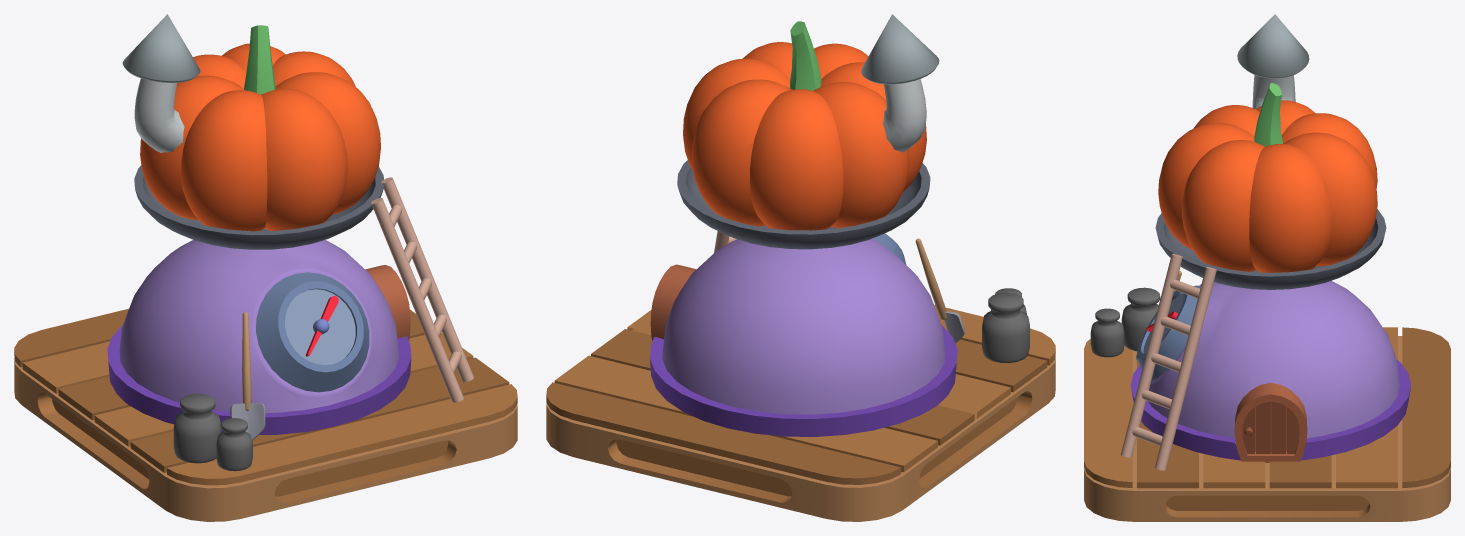
The model's file is Pumpkin House.fbx.
The picture shows the model from 3 angles, left to right: view 1: azimuth 30°, elevation 25°; view 2: azimuth 150°, elevation 25°; view 3: azimuth 270°, elevation 25°; orthographic projection. The views are drawn at different scales.
Visible parts, largest first — view 1: Pumpkin House.004, Pumpkin House, Pumpkin House.009, Pumpkin House.007, Pumpkin House.006, Pumpkin House.002, Pumpkin House.003, Pumpkin House.008, Pumpkin House.001; view 2: Pumpkin House.004, Pumpkin House, Pumpkin House.009, Pumpkin House.006, Pumpkin House.002, Pumpkin House.003, Pumpkin House.008; view 3: Pumpkin House, Pumpkin House.004, Pumpkin House.009, Pumpkin House.007, Pumpkin House.002, Pumpkin House.006, Pumpkin House.003, Pumpkin House.005.
Boxes of the visible parts, x1=… form: Pumpkin House.004: x1=107, y1=240, x2=411, y2=434; Pumpkin House: x1=14, y1=308, x2=517, y2=521; Pumpkin House.009: x1=140, y1=25, x2=380, y2=231; Pumpkin House.007: x1=371, y1=177, x2=473, y2=402; Pumpkin House.006: x1=122, y1=14, x2=200, y2=152; Pumpkin House.002: x1=134, y1=165, x2=384, y2=249; Pumpkin House.003: x1=173, y1=393, x2=252, y2=471; Pumpkin House.008: x1=230, y1=312, x2=265, y2=440; Pumpkin House.001: x1=305, y1=296, x2=338, y2=356; Pumpkin House.004: x1=650, y1=233, x2=957, y2=436; Pumpkin House: x1=546, y1=304, x2=1055, y2=521; Pumpkin House.009: x1=683, y1=21, x2=926, y2=230; Pumpkin House.006: x1=861, y1=14, x2=939, y2=152; Pumpkin House.002: x1=677, y1=160, x2=930, y2=249; Pumpkin House.003: x1=982, y1=288, x2=1029, y2=363; Pumpkin House.008: x1=915, y1=238, x2=964, y2=343; Pumpkin House: x1=1084, y1=327, x2=1450, y2=521; Pumpkin House.004: x1=1130, y1=281, x2=1411, y2=462; Pumpkin House.009: x1=1158, y1=83, x2=1377, y2=272; Pumpkin House.007: x1=1120, y1=254, x2=1216, y2=470; Pumpkin House.002: x1=1155, y1=209, x2=1386, y2=289; Pumpkin House.006: x1=1237, y1=14, x2=1309, y2=109; Pumpkin House.003: x1=1090, y1=287, x2=1160, y2=357; Pumpkin House.005: x1=1242, y1=401, x2=1299, y2=453.
Bounding box in the file's own units: 8.64 × 10.09 × 8.64.
